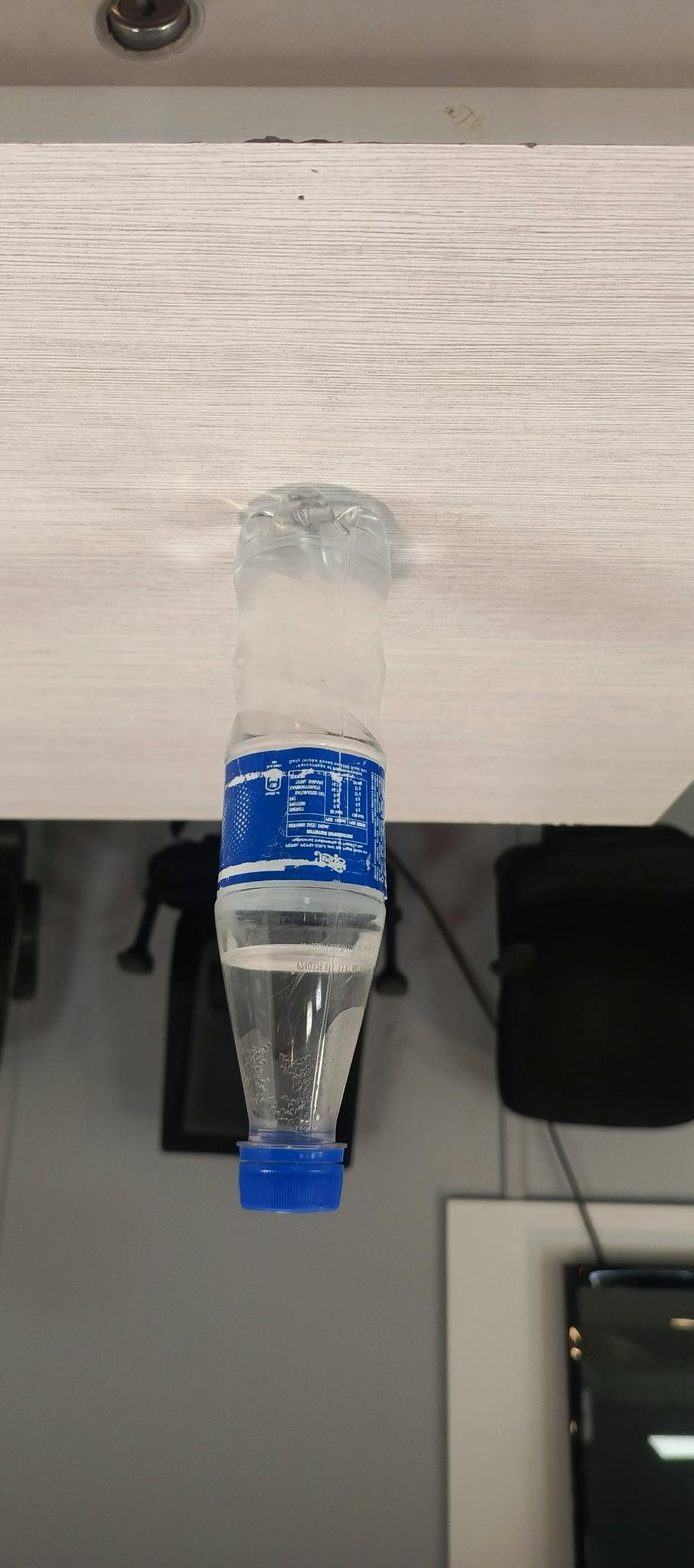Pepsi Bottle: (200, 461, 442, 1234), (195, 477, 413, 1239)
